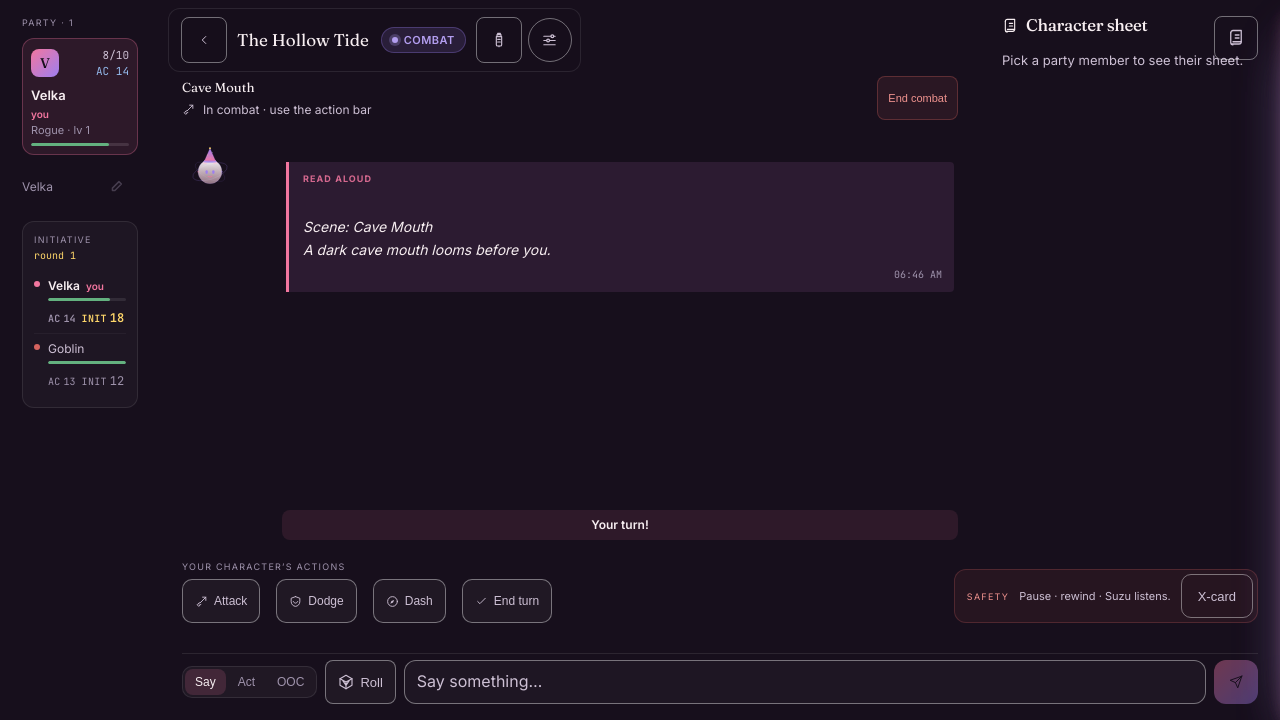
it: CUI-12 — scene_advance auto-flow › scene_advance on attack response logs the scene transition
Expected: the text "The Hollow Tide" is shown, [237,27,369,53]
Click the button "Attack": coordinates (221, 601) [182,579,260,623]
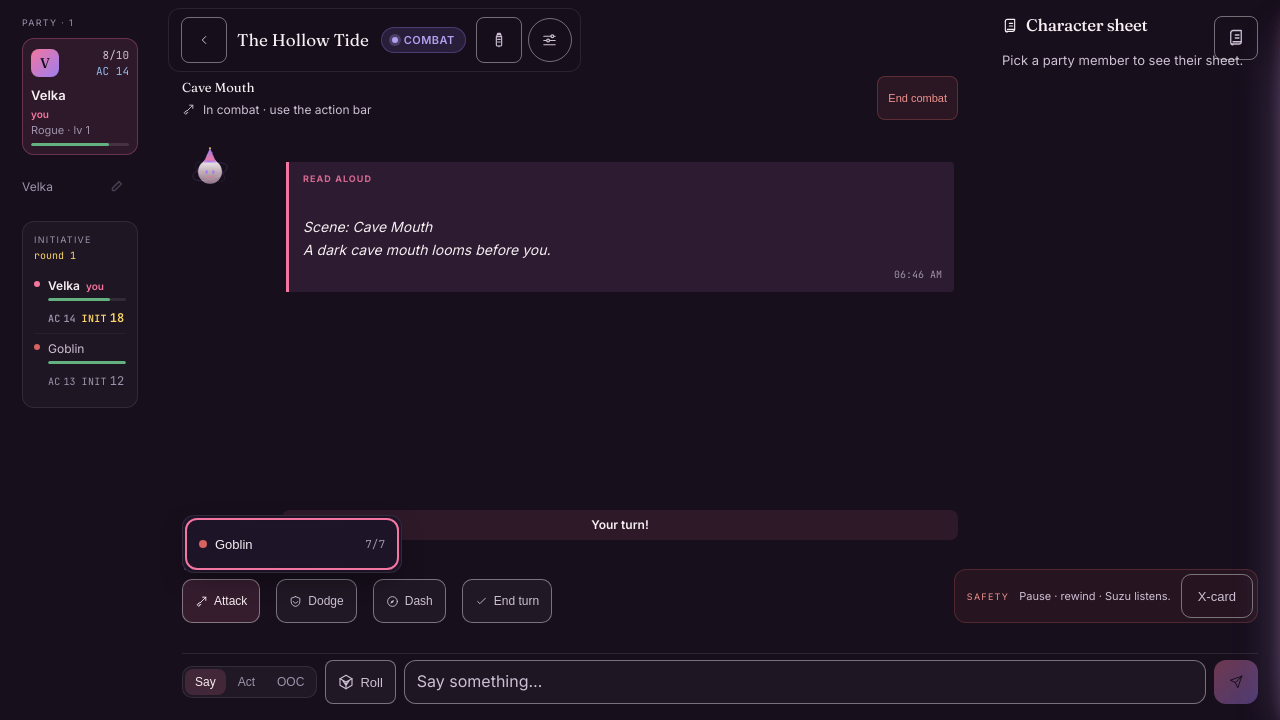
Expected: the menu is shown, [182,515,402,573]
Click the menu item "Goblin 7/7": coordinates (292, 544) [189,522,395,566]
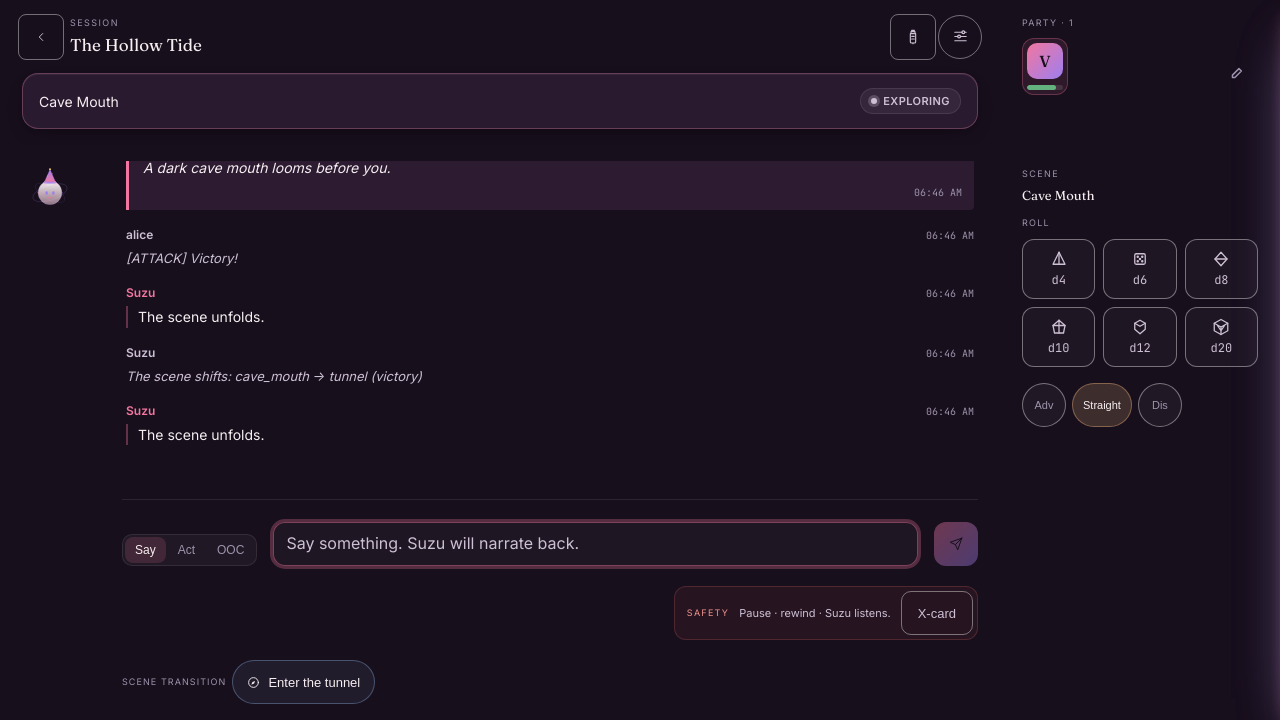
Expected: the text "The scene shifts: cave_mouth → tunnel (victory)" is shown, [126,368,422,384]
